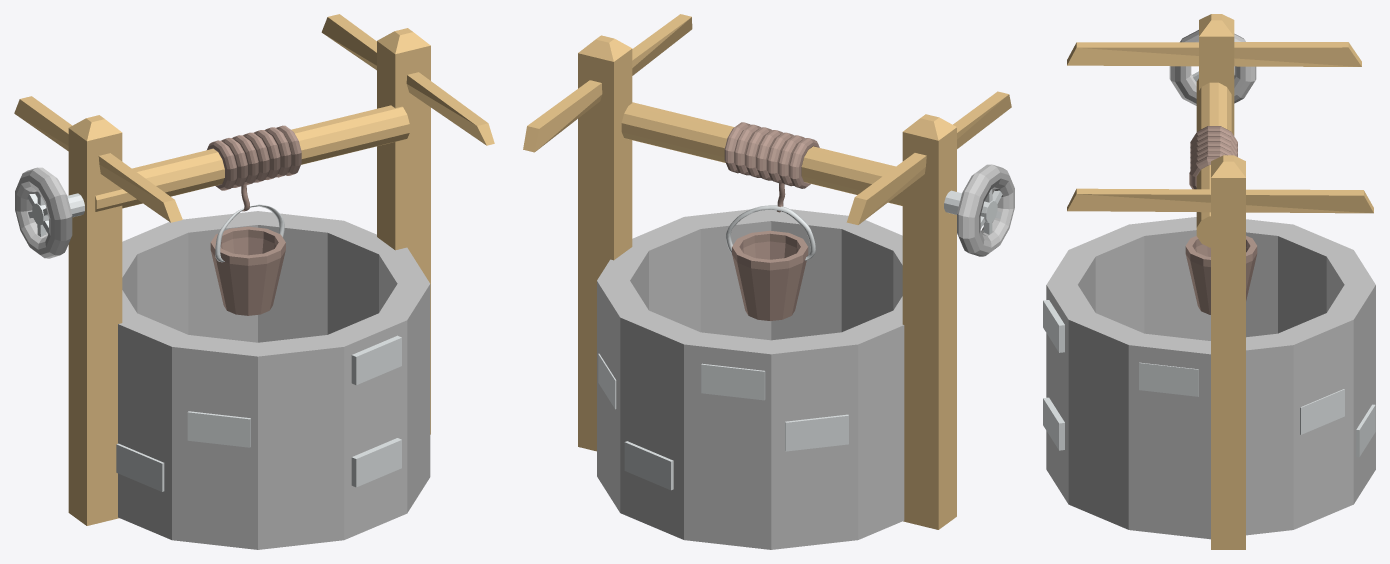
File: Jump_4.fbx
The picture shows the model from 3 angles, left to right: view 1: azimuth 30°, elevation 25°; view 2: azimuth 150°, elevation 25°; view 3: azimuth 270°, elevation 25°; orthographic projection. The views are drawn at different scales.
Visible parts, largest first — view 1: model; view 2: model; view 3: model.
Part boxes in pixels (left/top/right/bottom): model: left=14, top=14, right=494, bottom=549; model: left=523, top=14, right=1014, bottom=549; model: left=1043, top=14, right=1375, bottom=549.
Bounding box in the file's own units: 3.04 × 2.95 × 2.31.
